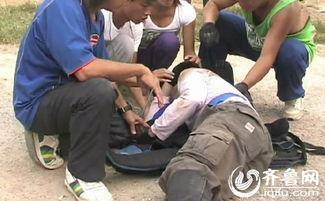Fall-Detected: (136, 57, 282, 199)
